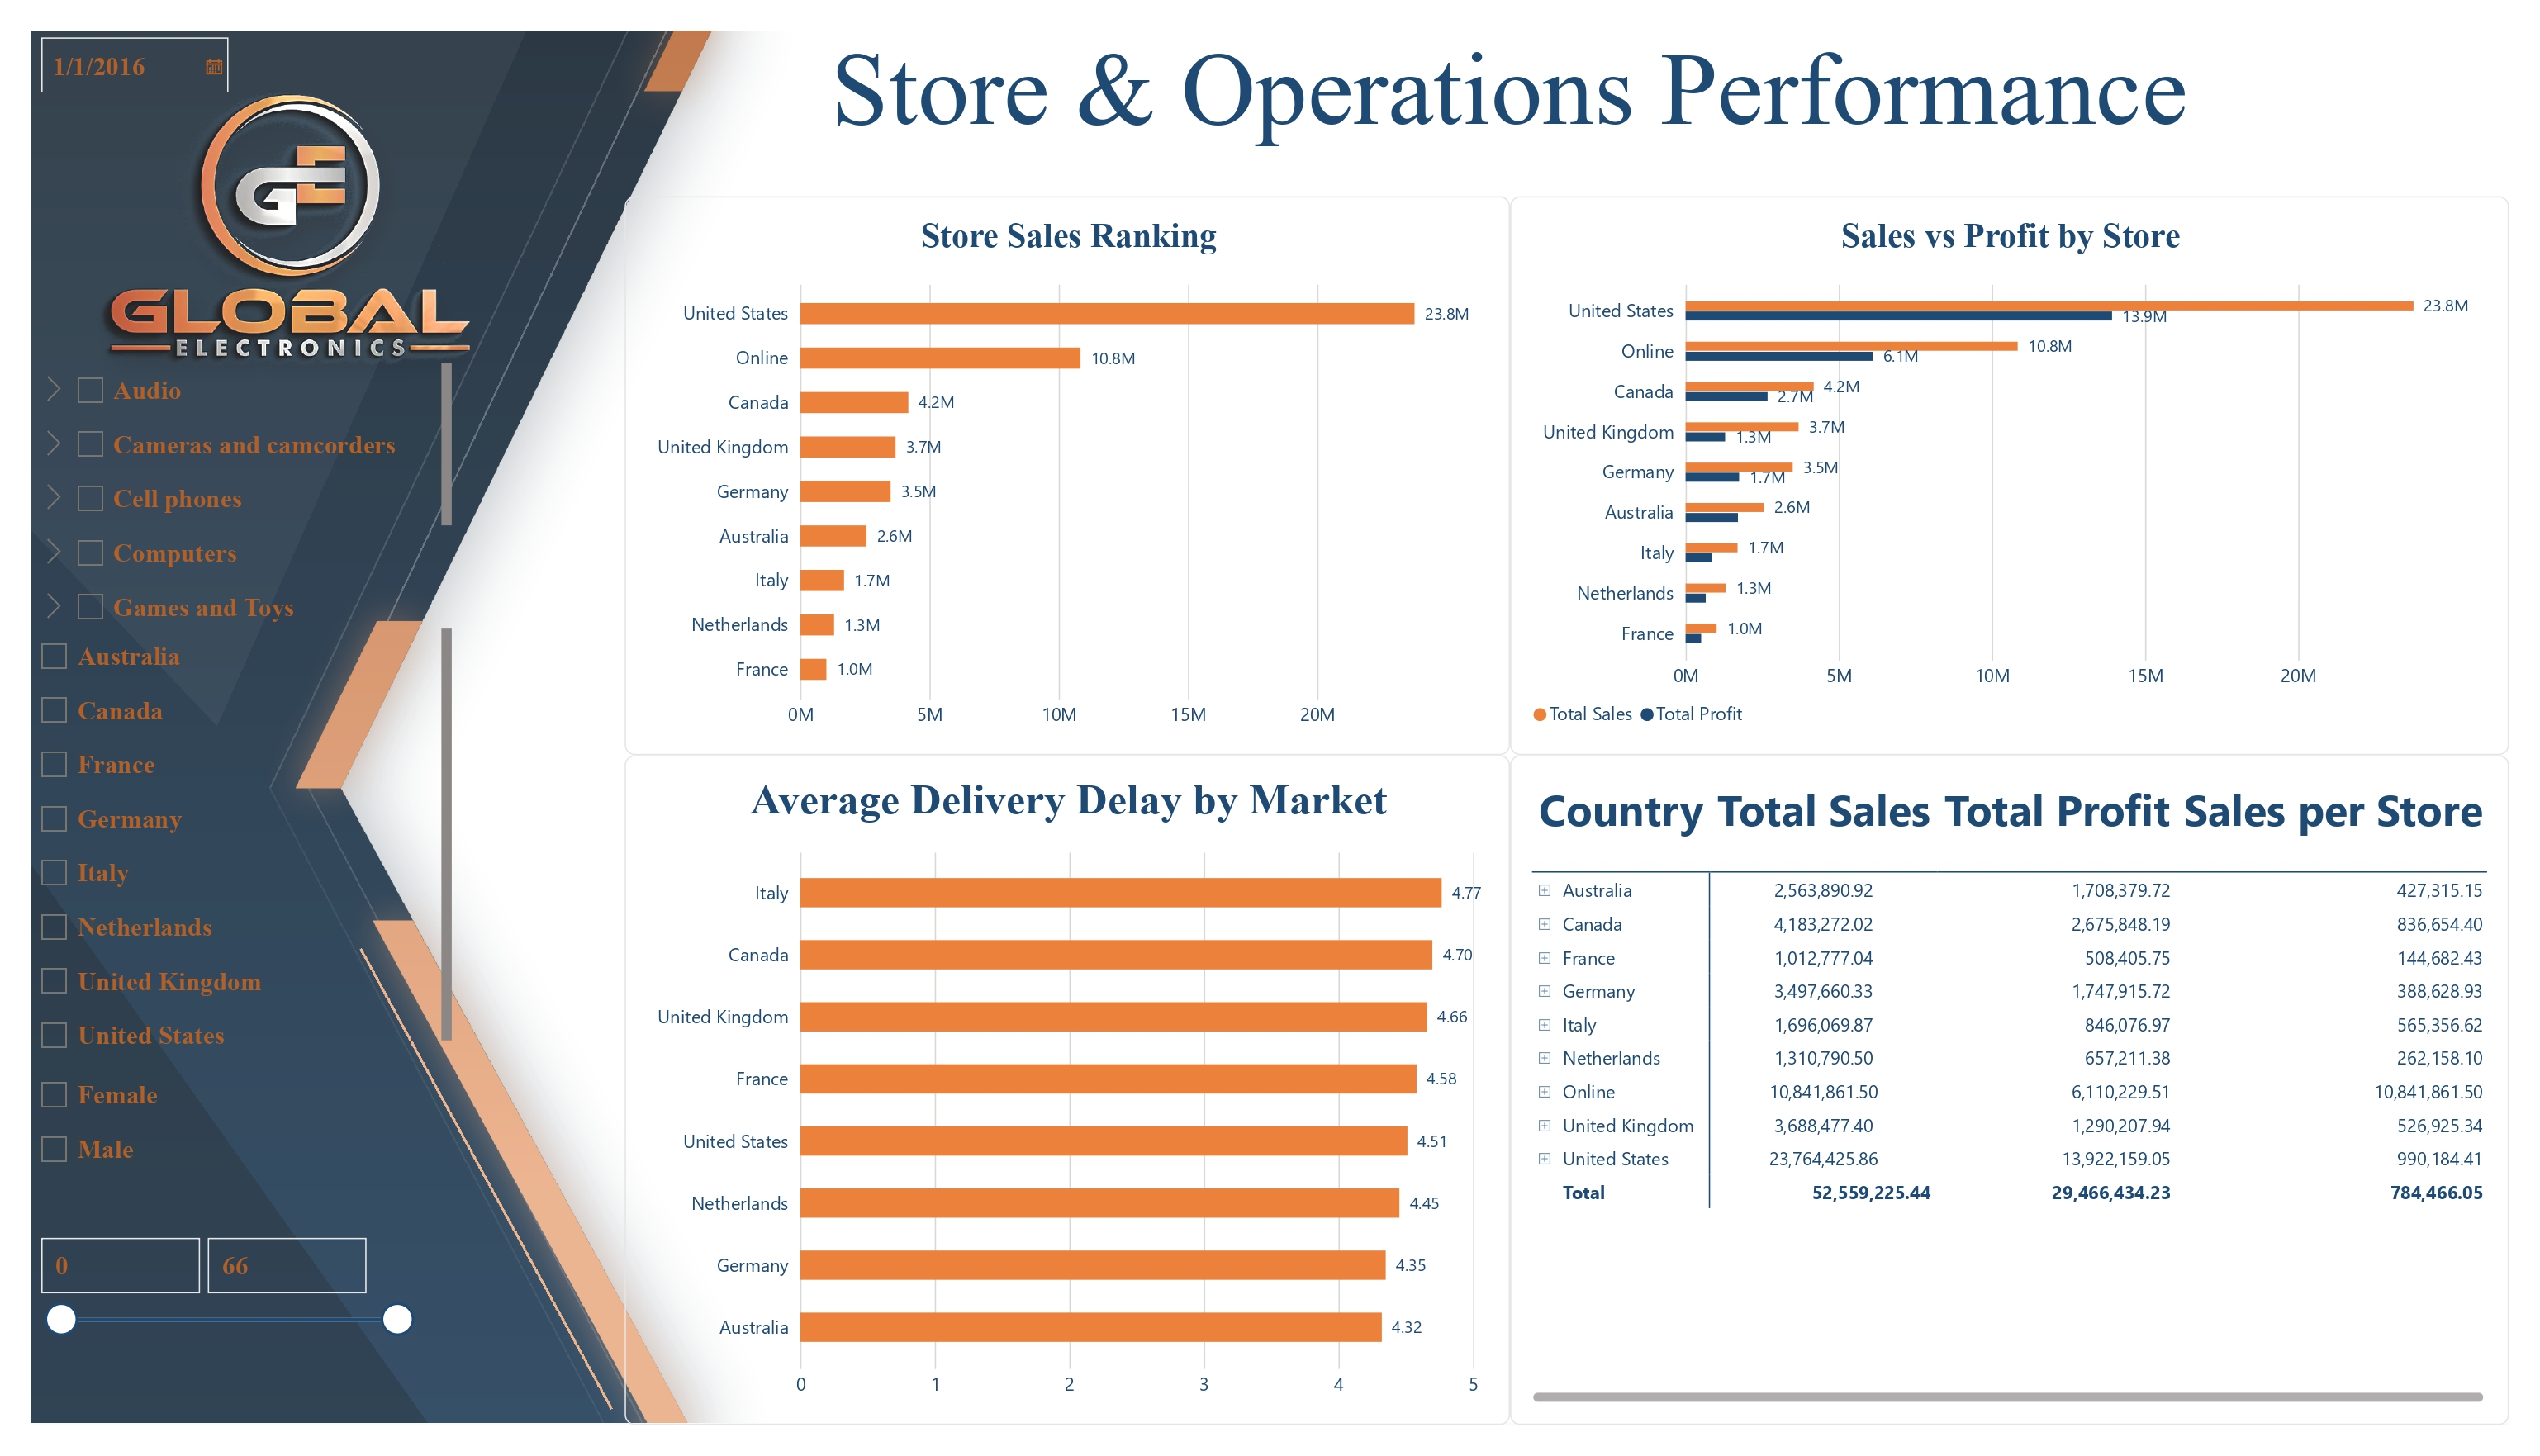

The page's visual inventory and layout, read from the dashboard file:
{"tool":"powerbi","page":{"name":"Store & Operations Performance","canvas":[1920,1080],"ordinal":4},"visuals":[{"type":"textbox","box":[371,0,1549.1,92.3],"z":0},{"type":"slicer","fields":{"Values":["Sales.Order Date"]},"box":[0,0,300.4,47.1],"z":1},{"type":"slicer","fields":{"Values":["Products.Category","Products.Brand"]},"box":[0,257,325.7,206.3],"z":2},{"type":"slicer","fields":{"Values":["Customers.Country"]},"box":[0,463.3,325.7,331.2],"z":3},{"type":"slicer","fields":{"Values":["Customers.Gender"]},"box":[0,803.5,300.4,103.2],"z":4},{"type":"slicer","fields":{"Values":["Sales.StoreKey"]},"box":[0,930,300,150],"z":5},{"type":"clusteredBarChart","title":"Sales vs Profit by Store","fields":{"Category":["Stores.Country"],"Y":["_Measures.Total Sales","_Measures.Total Profit"]},"box":[1145.5,128.5,774.5,432.5],"z":6},{"type":"clusteredBarChart","title":"Store Sales Ranking","fields":{"Category":["Stores.Country"],"Y":["_Measures.Total Sales"]},"box":[459.7,128.5,685.9,432.5],"z":7},{"type":"pivotTable","fields":{"Rows":["Stores.Country","Stores.State"],"Values":["_Measures.Total Sales","_Measures.Total Profit","_Measures.Sales per Store"]},"box":[1145.5,561,774.5,519.4],"z":8},{"type":"clusteredBarChart","title":"Average Delivery Delay by Market","fields":{"Category":["Customers.Country"],"Y":["_Measures.Average Delivery Delay"]},"box":[459.7,561,685.9,519.4],"z":9}]}

Visuals, with their boxes on the page's 1920x1080 design canvas (x1, y1, x2, y2). These are canvas units, not pixel positions in the 2540x1456 screenshot, which may show the page scaled, cropped or inside an application window:
textbox: (371, 0, 1920, 92)
slicer - Sales.Order Date: (0, 0, 300, 47)
slicer - Products.Category x Products.Brand: (0, 257, 326, 463)
slicer - Customers.Country: (0, 463, 326, 794)
slicer - Customers.Gender: (0, 804, 300, 907)
slicer - Sales.StoreKey: (0, 930, 300, 1080)
"Sales vs Profit by Store" clusteredBarChart: (1146, 128, 1920, 561)
"Store Sales Ranking" clusteredBarChart: (460, 128, 1146, 561)
pivotTable - Stores.Country x Stores.State: (1146, 561, 1920, 1080)
"Average Delivery Delay by Market" clusteredBarChart: (460, 561, 1146, 1080)
